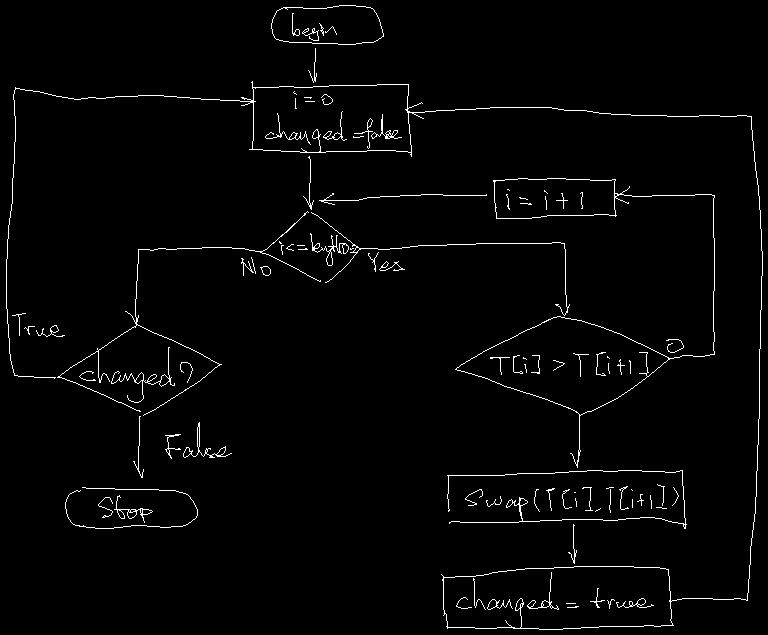arrow: (405, 102, 762, 601), (6, 87, 255, 378), (614, 186, 714, 358), (360, 242, 569, 315), (125, 247, 261, 325), (319, 193, 486, 204), (133, 416, 143, 477), (303, 156, 313, 209), (570, 414, 580, 467), (568, 524, 576, 563), (308, 48, 316, 82)
decision: (455, 316, 669, 415), (57, 323, 221, 415), (260, 211, 360, 282)
process: (441, 566, 673, 629), (447, 470, 686, 528), (249, 81, 411, 156), (493, 178, 616, 218)
terminator: (65, 487, 197, 528), (271, 5, 383, 44)
text: (456, 572, 653, 628), (265, 91, 401, 152), (465, 484, 678, 520), (79, 347, 192, 402), (490, 352, 648, 376), (279, 233, 357, 265), (165, 422, 231, 458), (506, 189, 582, 209), (98, 495, 152, 522), (12, 313, 64, 336), (292, 13, 336, 40), (368, 252, 404, 271), (241, 257, 270, 275), (666, 339, 683, 352)
